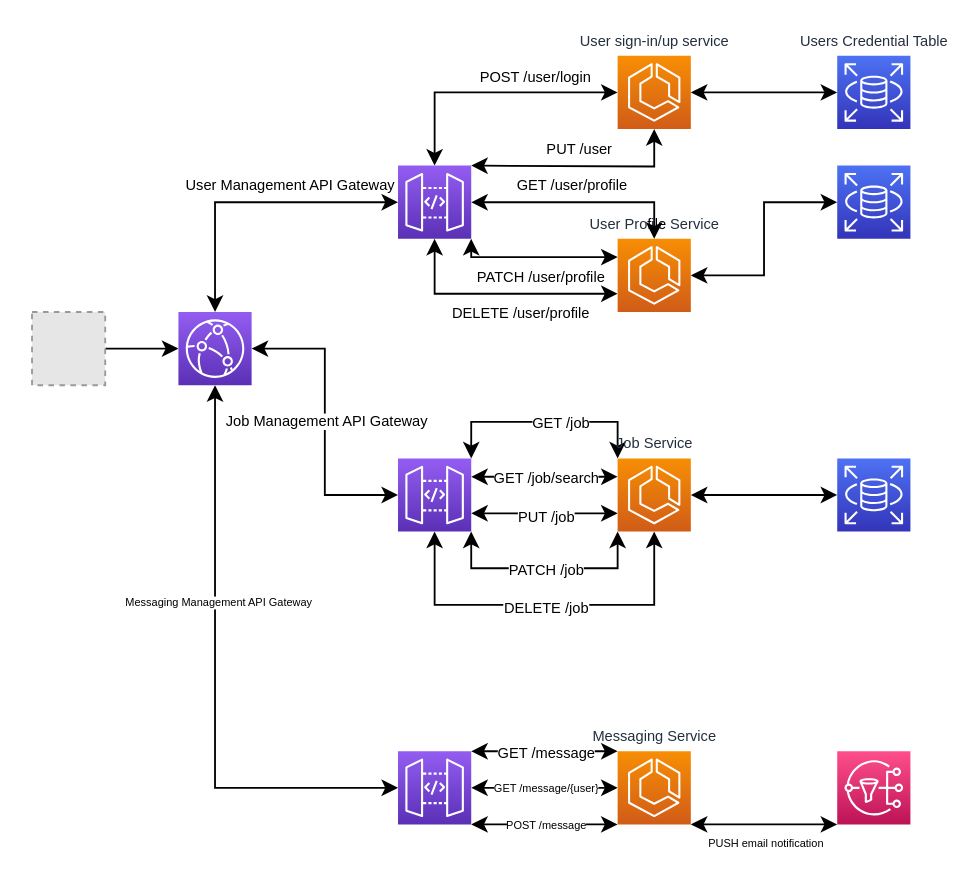
Image size: 979x880. Some labels were removed from this diagram. Grey dashed boxes stand in for pictures. Here are the shapes that lost their labels. From the top down, the box of each, then its label:
(835, 164, 910, 239): Users Profile Table
(835, 457, 910, 532): Jobs Table
